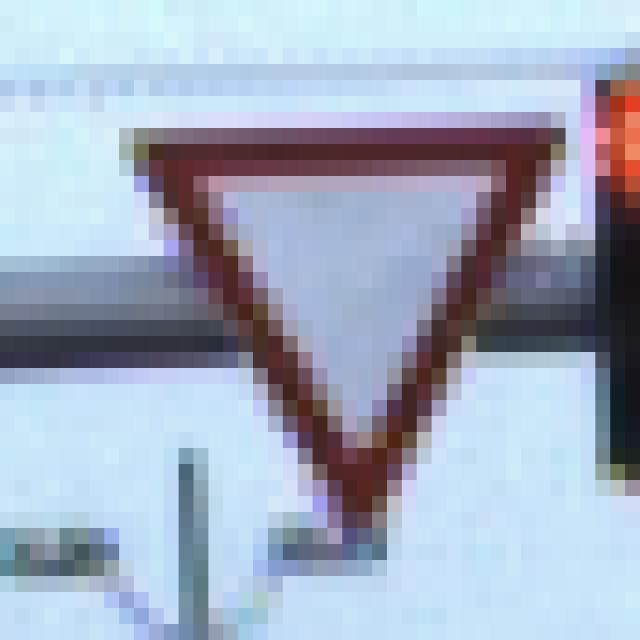Give Way: (90, 97, 567, 561)
